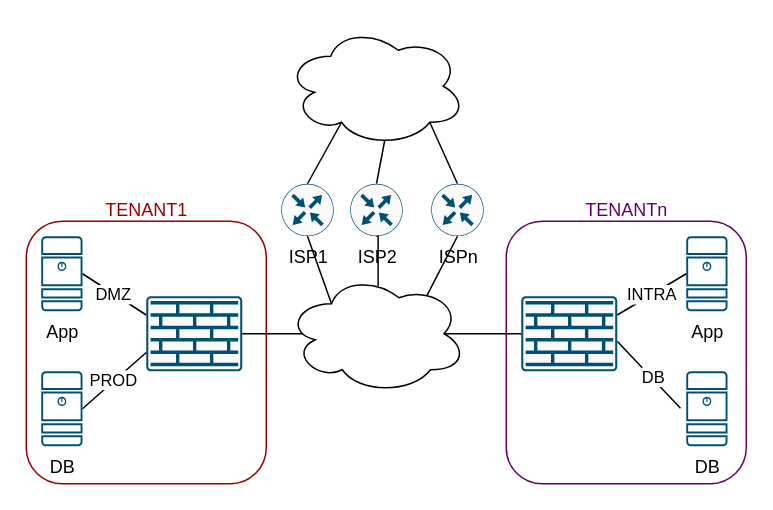
The diagram is 773 pixels wide and 510 high, and some of its shapes have lost their labels. Here are the shapes that lost their labels. From the top down, the centre of each, then its label:
point (375, 85): Internet
point (375, 333): Public
